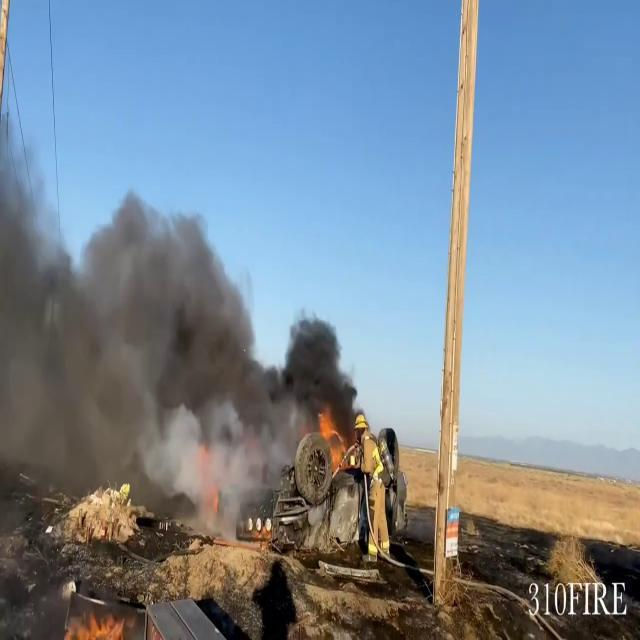Smoke: (0, 162, 358, 520)
